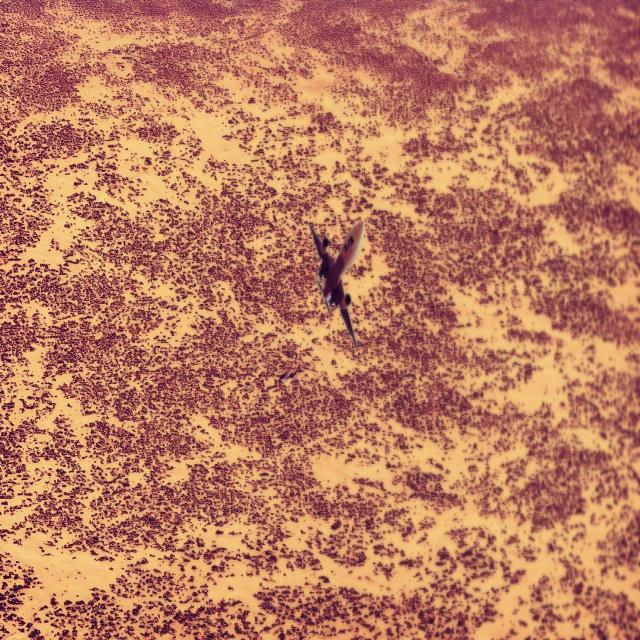airplane: (308, 218, 365, 350)
